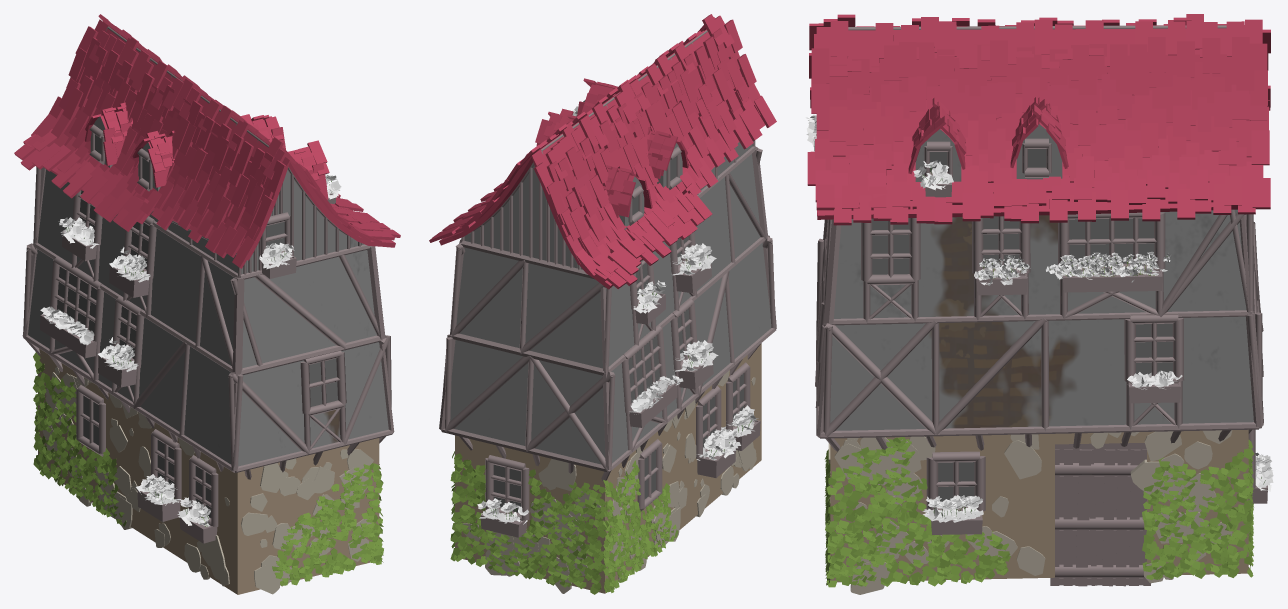
The model's file is HouseOne_Phase4B.glb.
3 views of the same model, side by side, from view 1: azimuth 30°, elevation 25°; view 2: azimuth 150°, elevation 25°; view 3: azimuth 270°, elevation 25° (orthographic). The views are drawn at different scales.
Visible parts, largest first — view 1: Phase4B_corrected; view 2: Phase4B_corrected; view 3: Phase4B_corrected.
Boxes of the visible parts, x1=… form: Phase4B_corrected: x1=14, y1=14, x2=400, y2=594; Phase4B_corrected: x1=429, y1=14, x2=776, y2=594; Phase4B_corrected: x1=806, y1=14, x2=1273, y2=594.
Size of the model in its own units: 3.93 by 8.15 by 6.56.
12 materials, 1 textured.
